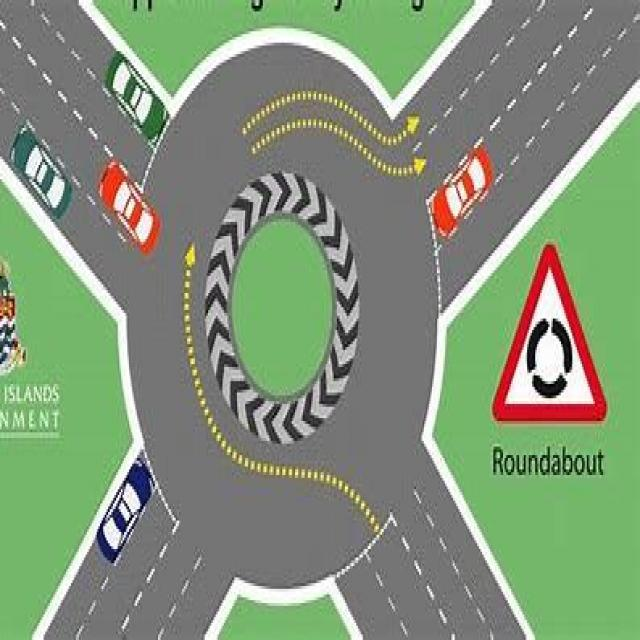ROUNDABOUT: (489, 242, 606, 424)
